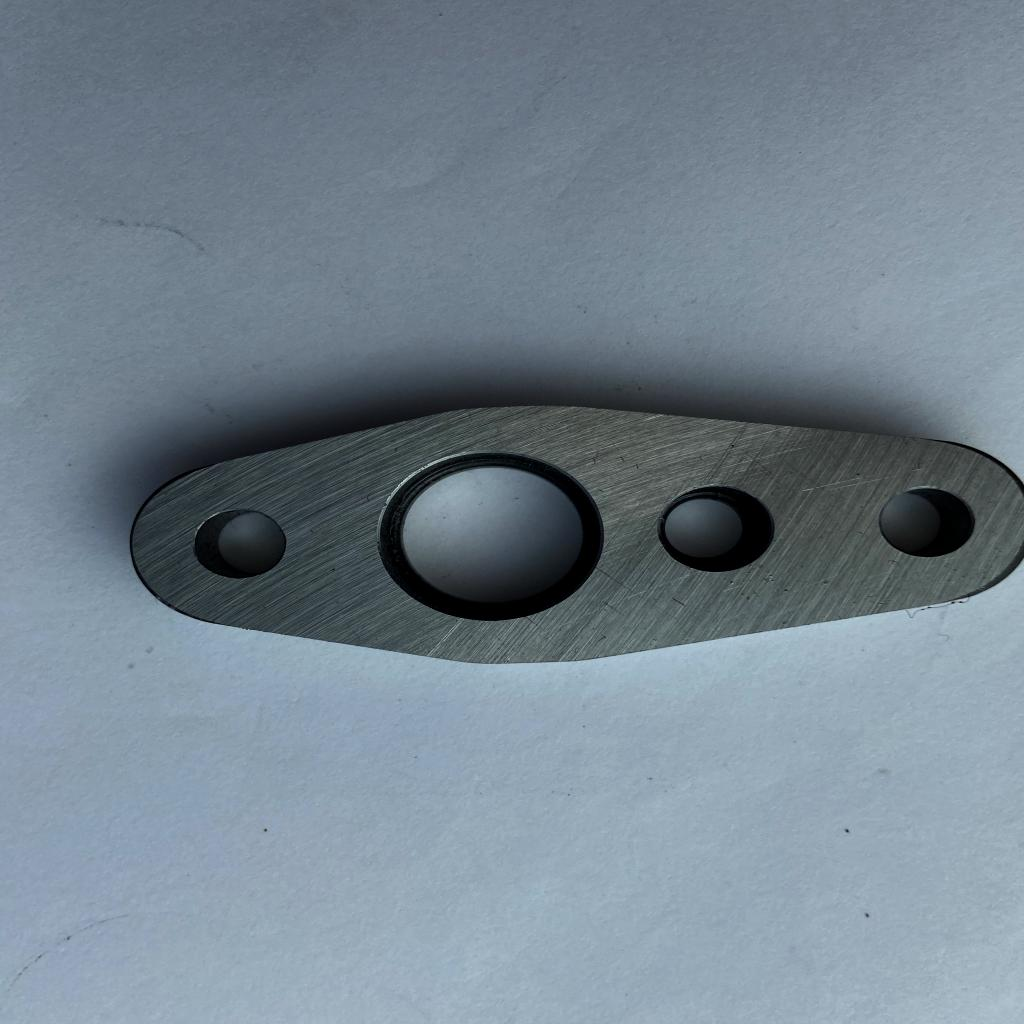chap: (428, 620, 458, 656), (758, 569, 790, 594), (727, 574, 751, 589), (818, 578, 832, 586), (854, 470, 864, 478)
